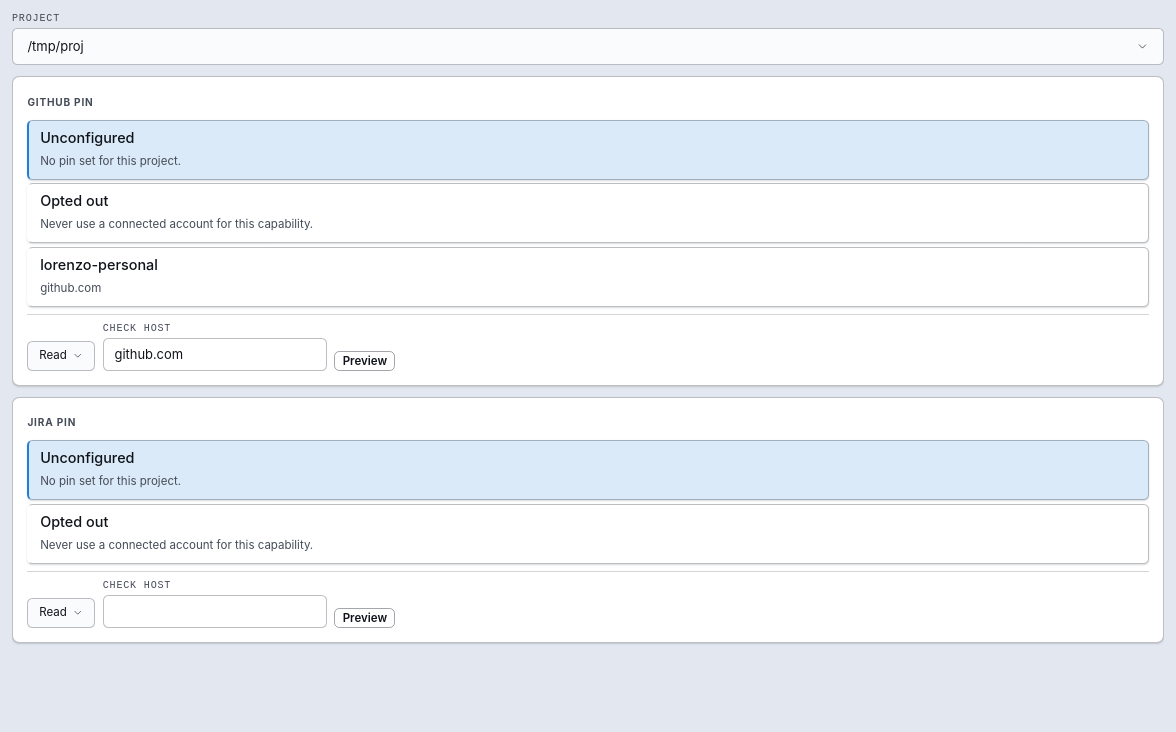
Test: AccountPinPicker resolution preview — five distinct error states (issue #230 acceptance) › AccountPinRequiredError renders a distinct required-pin state
Click the button with test id "account-pin-preview-run-github" at coordinates (365, 361), box [334, 351, 395, 371]
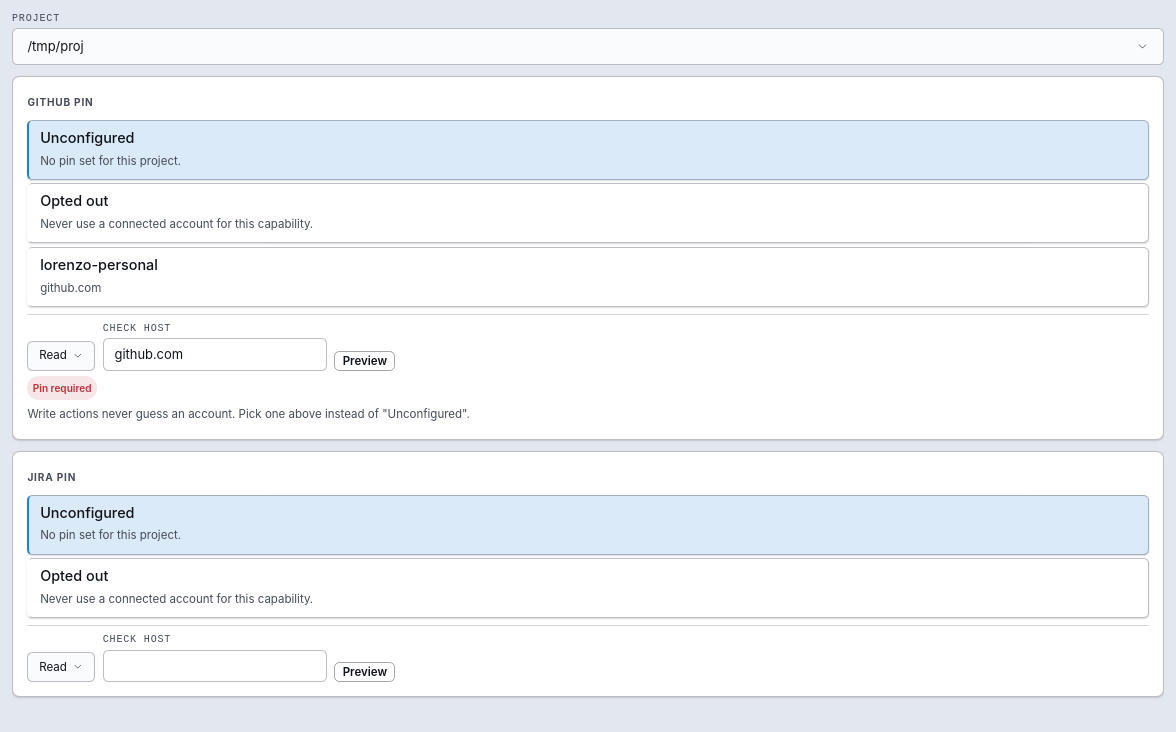
Expected: the element with test id "account-pin-preview-github" is shown, [27, 314, 1149, 425]
Result: the element with test id "account-pin-preview-error-github" shows "never guess" at [27, 407, 470, 421]
